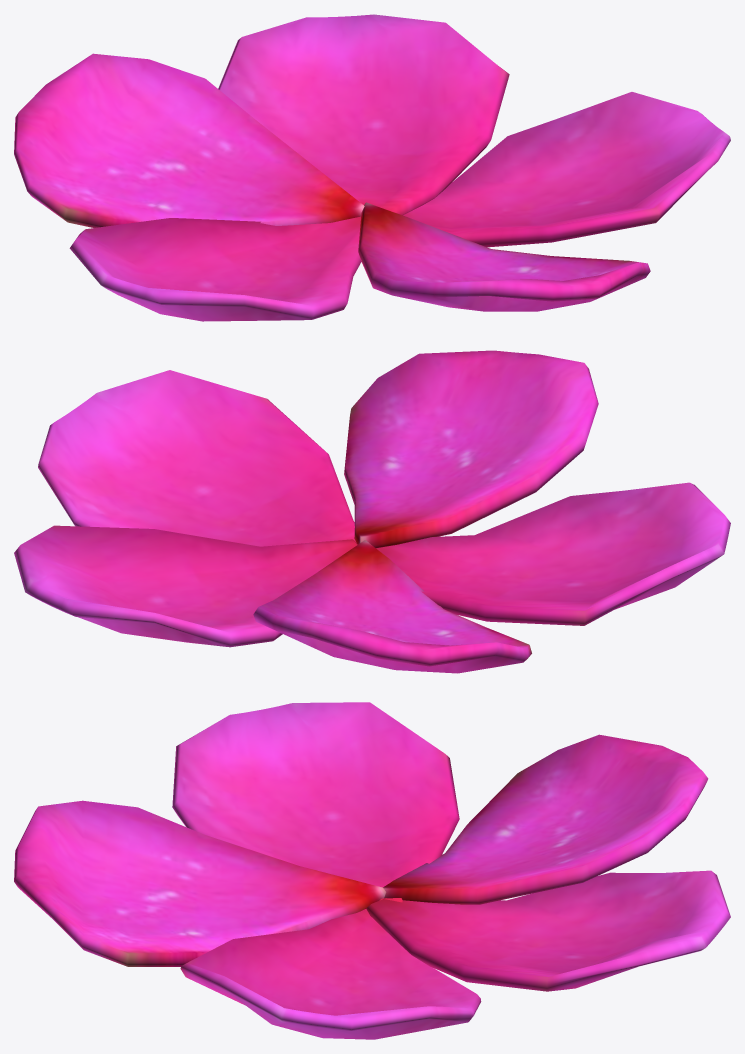
File: Floweronly.fbx
3 views of the same model, one above another, from view 1: azimuth 30°, elevation 25°; view 2: azimuth 150°, elevation 25°; view 3: azimuth 270°, elevation 25° (orthographic).
Parts seen in each view (by area): view 1: Flower; view 2: Flower; view 3: Flower.
Boxes of the visible parts, x1,y1,x2,y2 form: Flower: (14, 14, 730, 321); Flower: (14, 350, 730, 673); Flower: (14, 702, 730, 1039).
Bounding box in the file's own units: 0.2366 × 0.0379 × 0.2312.
Materials: 1 (1 with a texture image).
